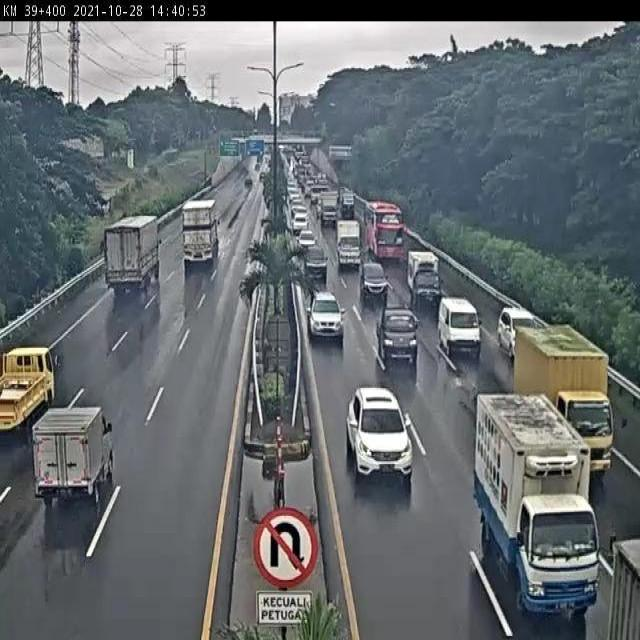big truck: (181, 200, 220, 265)
car: (345, 387, 415, 485), (496, 303, 544, 361), (374, 302, 420, 362), (437, 297, 482, 356), (306, 285, 345, 344), (359, 261, 391, 300)
small truck: (32, 405, 115, 508)
truck-m-: (473, 392, 603, 616), (514, 325, 614, 480), (102, 213, 160, 296)
truck-s-: (0, 345, 58, 439), (405, 248, 443, 305)
